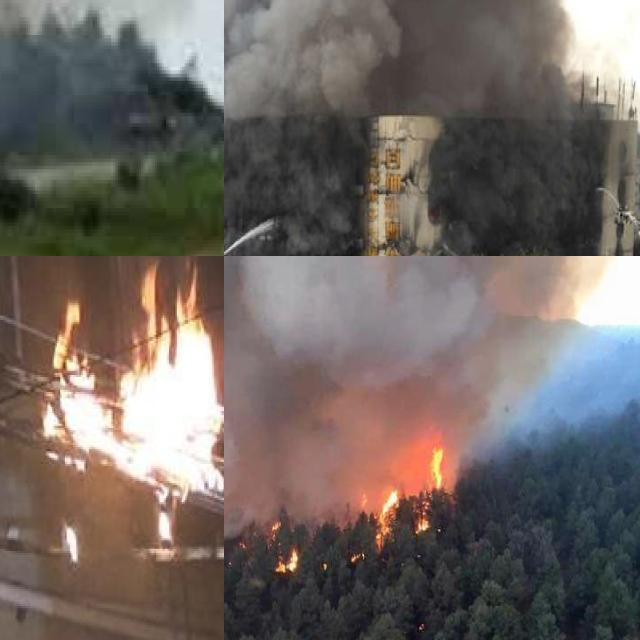fire: (34, 275, 224, 527), (365, 433, 455, 538), (266, 515, 298, 573)
smoke: (224, 256, 640, 584), (224, 0, 636, 255), (0, 24, 150, 158)
